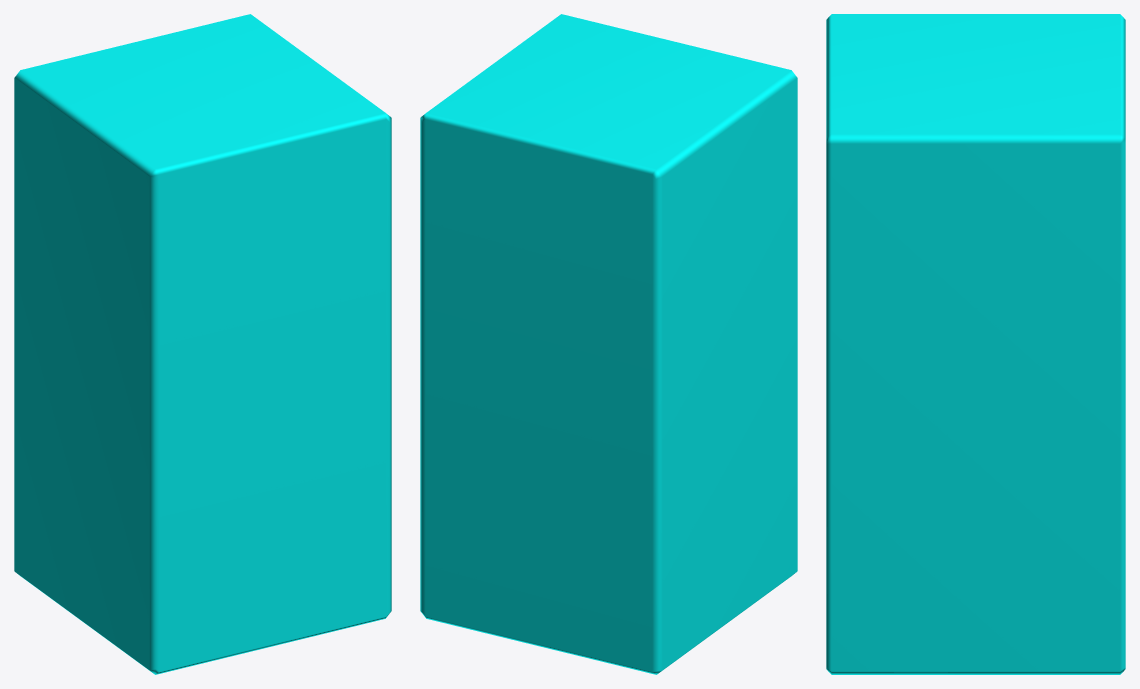
Rendered from Tall_Square_Closed_Box_Low.fbx.
3 views of the same model, side by side, from view 1: azimuth 30°, elevation 25°; view 2: azimuth 150°, elevation 25°; view 3: azimuth 270°, elevation 25° (orthographic). The views are drawn at different scales.
Visible parts, largest first — view 1: Tall_Closed_Box_low; view 2: Tall_Closed_Box_low; view 3: Tall_Closed_Box_low.
Part boxes in pixels (<box>): Tall_Closed_Box_low: <box>14,14,391,674</box>; Tall_Closed_Box_low: <box>420,14,797,674</box>; Tall_Closed_Box_low: <box>826,14,1125,674</box>.
Bounding box in the file's own units: 250 × 499 × 250.
